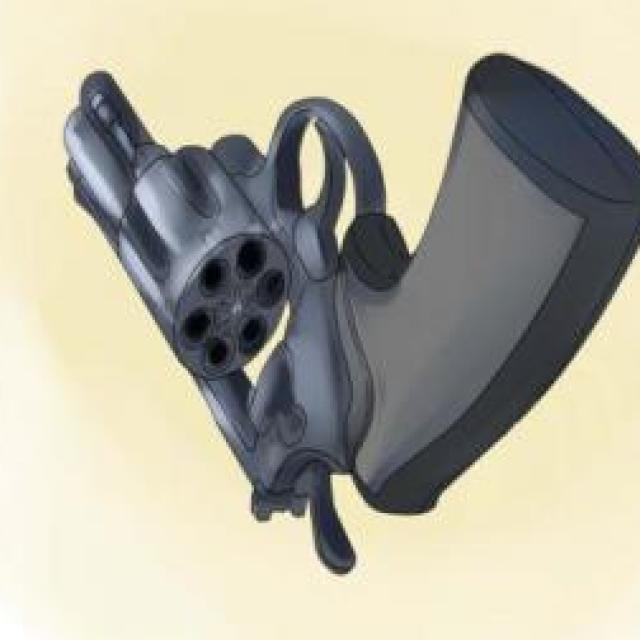pistol: (63, 47, 640, 576)
